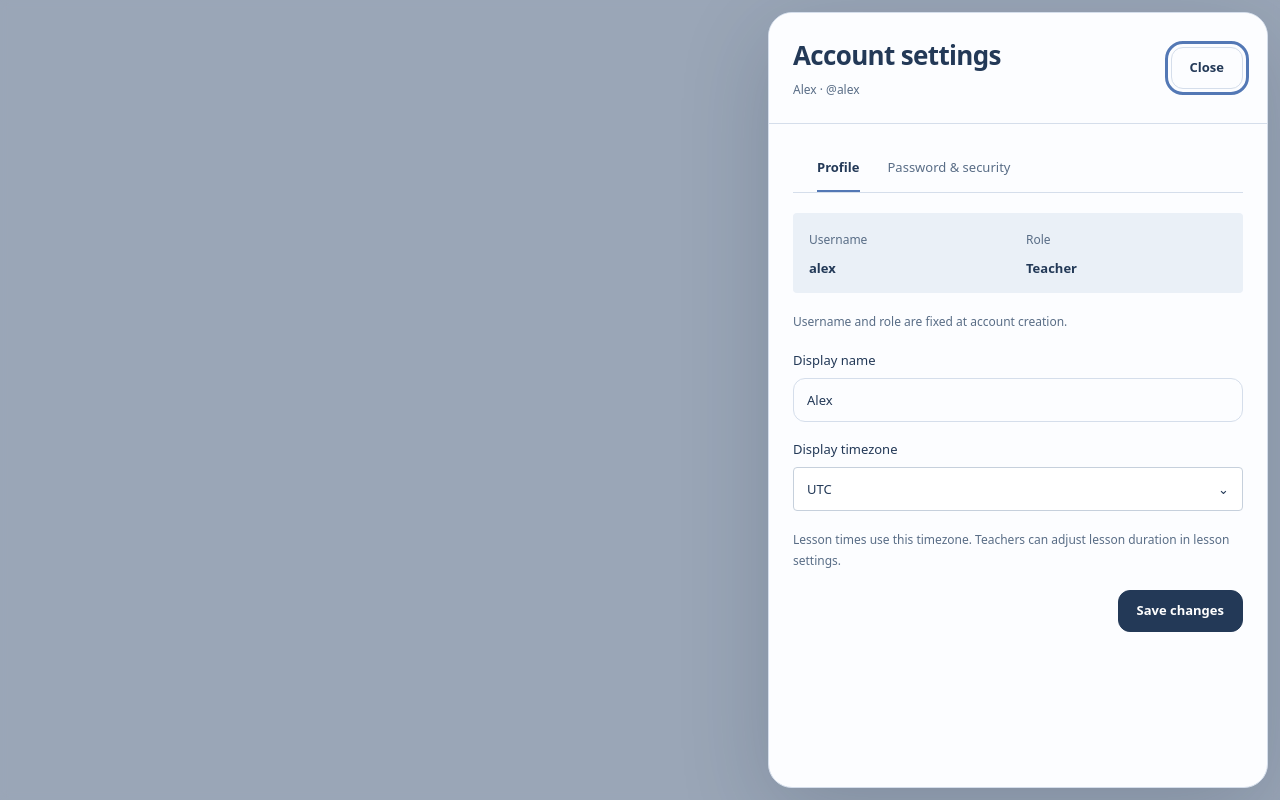
Test case: account dialog › updates profile without sending username or role and reports failed saves in place
The width and height of the screenshot is (1280, 800).
Step 1. Replace the text in the field labelled "Display name" with "Alex Chen" → (1018, 400), box [793,378,1243,422]
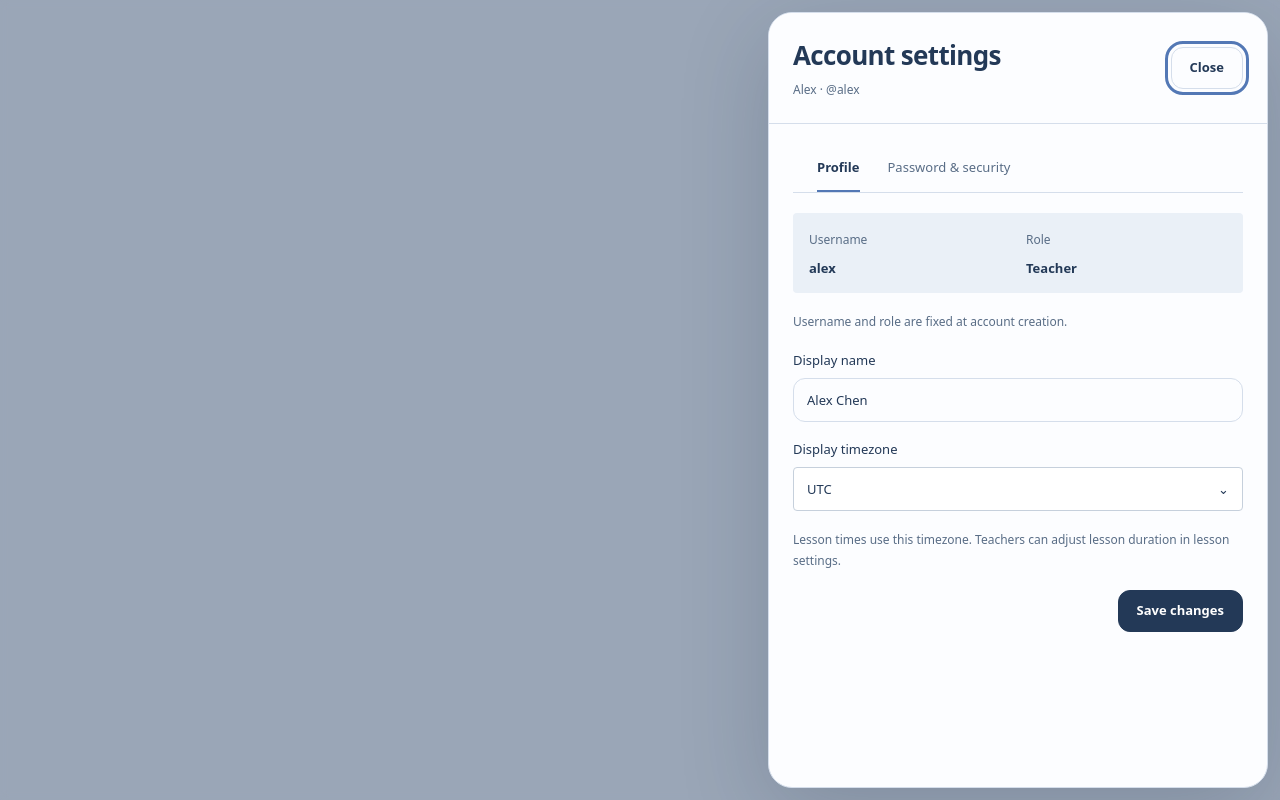
Step 2. Submit the form, box [769,213,1267,656]
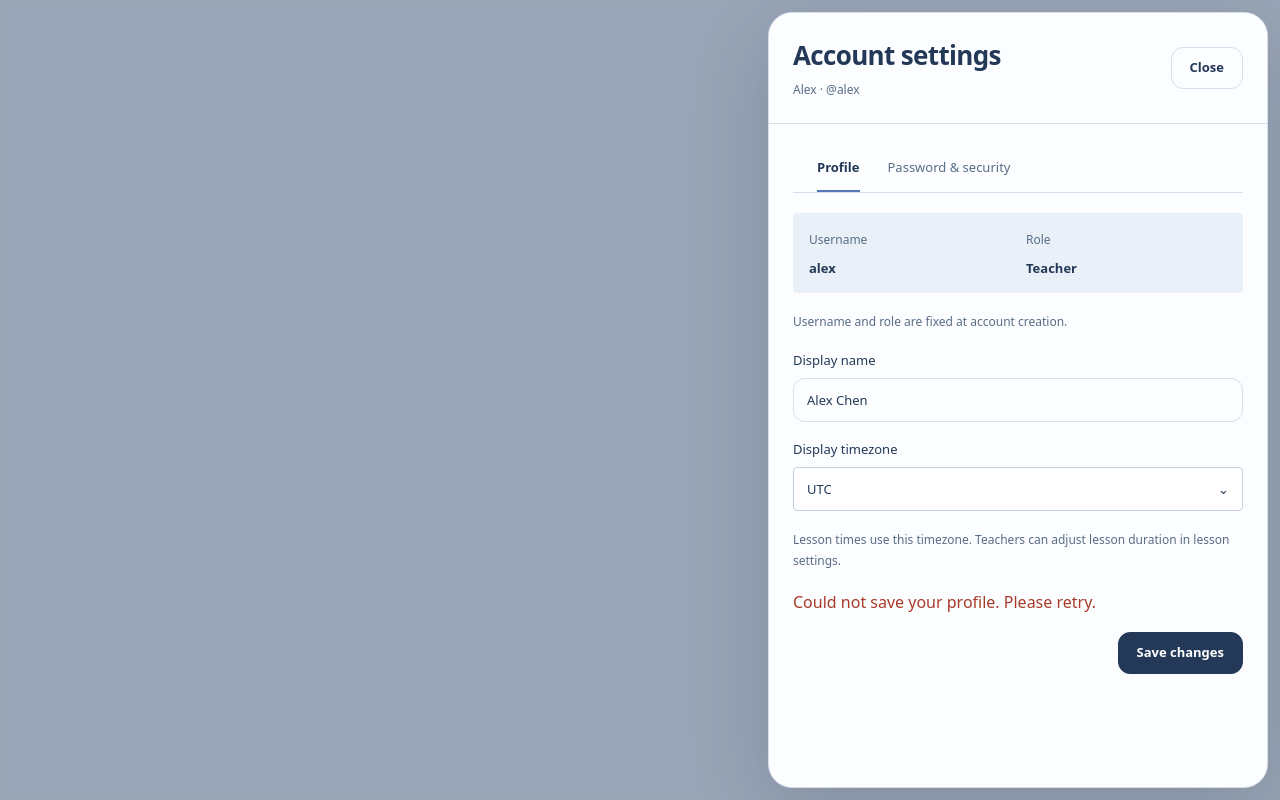
Check: the text "Could not save" is shown, box [793,591,1096,613]
Step 3. Submit the form, box [769,213,1267,698]
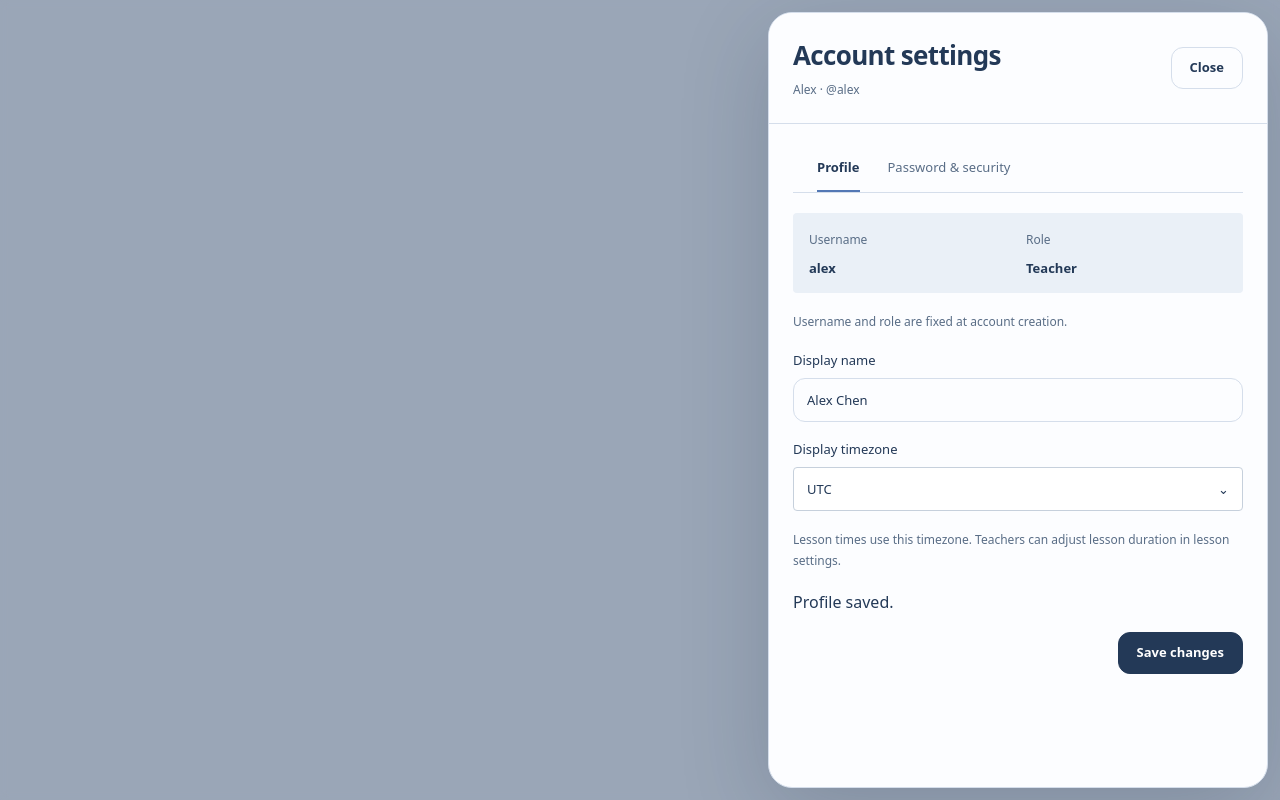
Check: the text "Profile saved" is shown, box [793,591,894,613]
